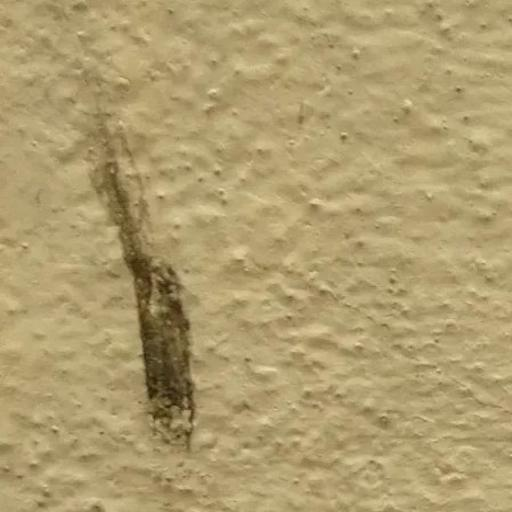stain: (69, 94, 226, 454)
